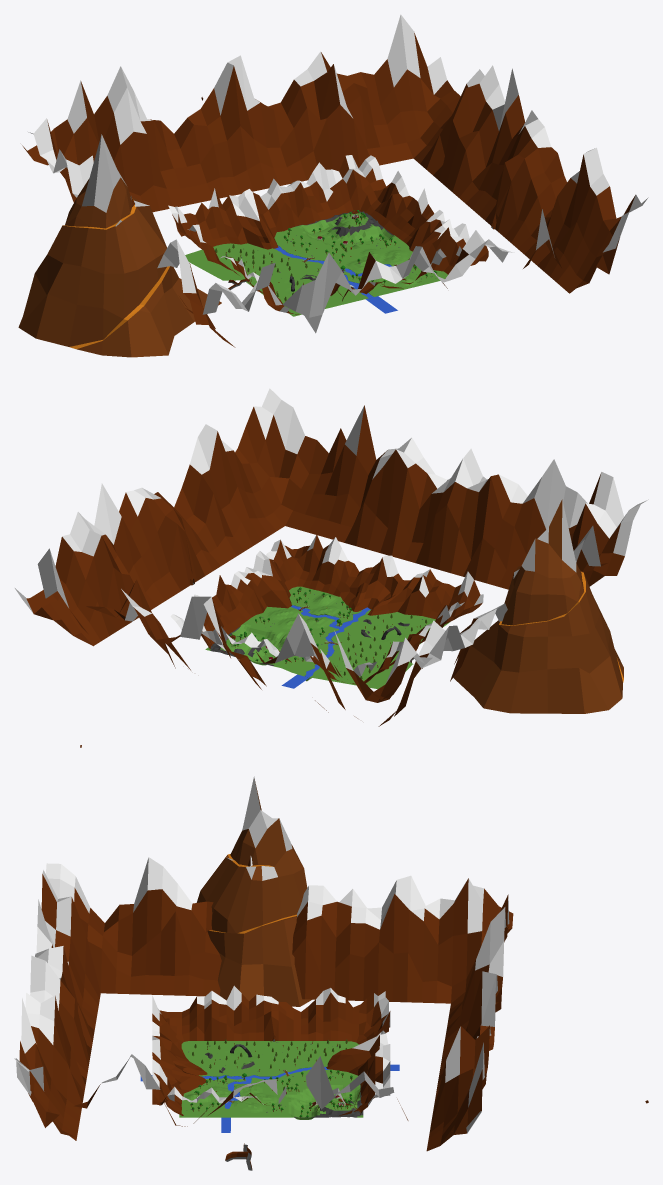
Rendered from testSceneLowPolyblend11.fbx.
The picture shows the model from 3 angles, top to bottom: view 1: azimuth 30°, elevation 25°; view 2: azimuth 150°, elevation 25°; view 3: azimuth 270°, elevation 25°; orthographic projection. The views are drawn at different scales.
Parts seen in each view (by area): view 1: Plane.003, Cube.090, Plane.001, Plane.002, Plane; view 2: Plane.003, Cube.090, Plane.001, Plane.002, Plane; view 3: Plane.003, Plane.001, Cube.090, Plane.002, Plane.
Part boxes in pixels (x1,y1,x2,y2): Plane.003: (22, 14, 648, 347); Cube.090: (18, 134, 221, 357); Plane.001: (168, 155, 488, 314); Plane.002: (185, 211, 447, 316); Plane: (274, 246, 397, 313); Plane.003: (15, 388, 648, 726); Cube.090: (453, 499, 623, 713); Plane.001: (170, 534, 483, 684); Plane.002: (205, 586, 449, 688); Plane: (281, 605, 370, 688); Plane.003: (14, 856, 513, 1170); Plane.001: (152, 985, 390, 1115); Cube.090: (196, 776, 311, 1006); Plane.002: (179, 1041, 363, 1119); Plane: (140, 1064, 399, 1132).
Bounding box in the file's own units: 126765 × 46485 × 136042.
